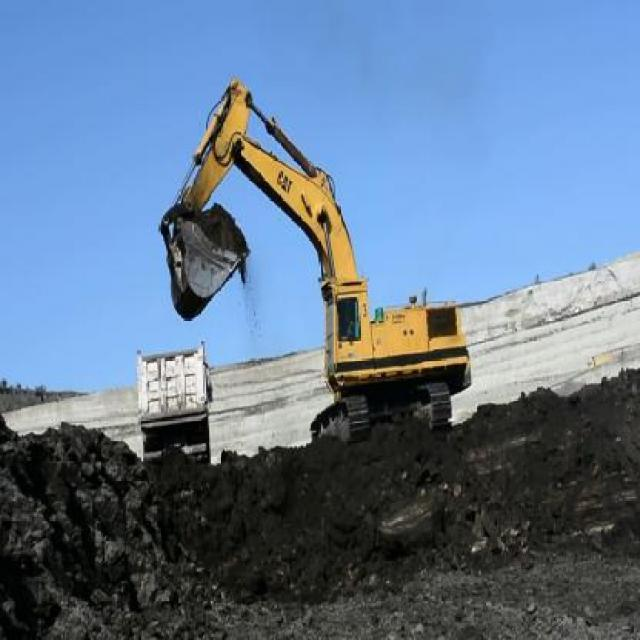Dump Truck: (135, 347, 213, 465)
Excavator: (156, 69, 475, 443)
